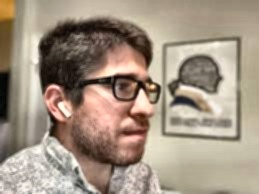earphone: (43, 84, 74, 122)
